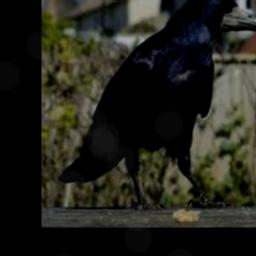Crow: (60, 0, 256, 210)
